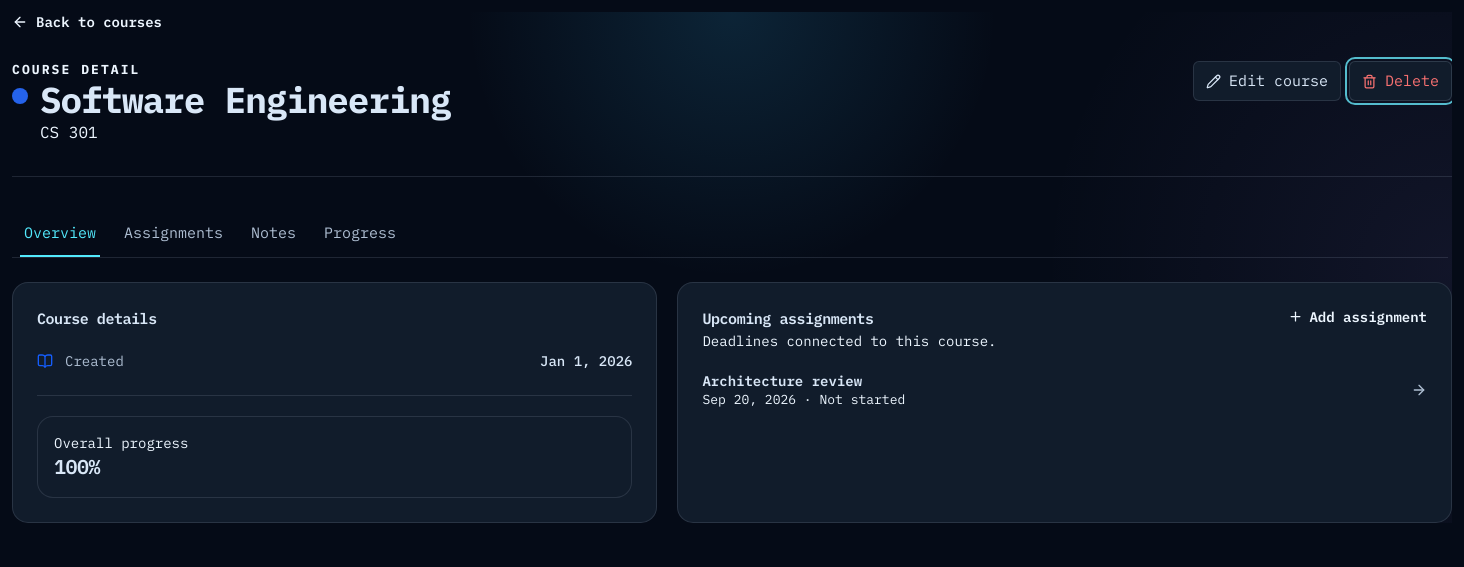
Test: CourseDetail tabs › switches between real course assignments, notes, and progress
The image size is (1464, 567).
Click the tab "Assignments". click: (174, 233)
box: [112,209,235,257]
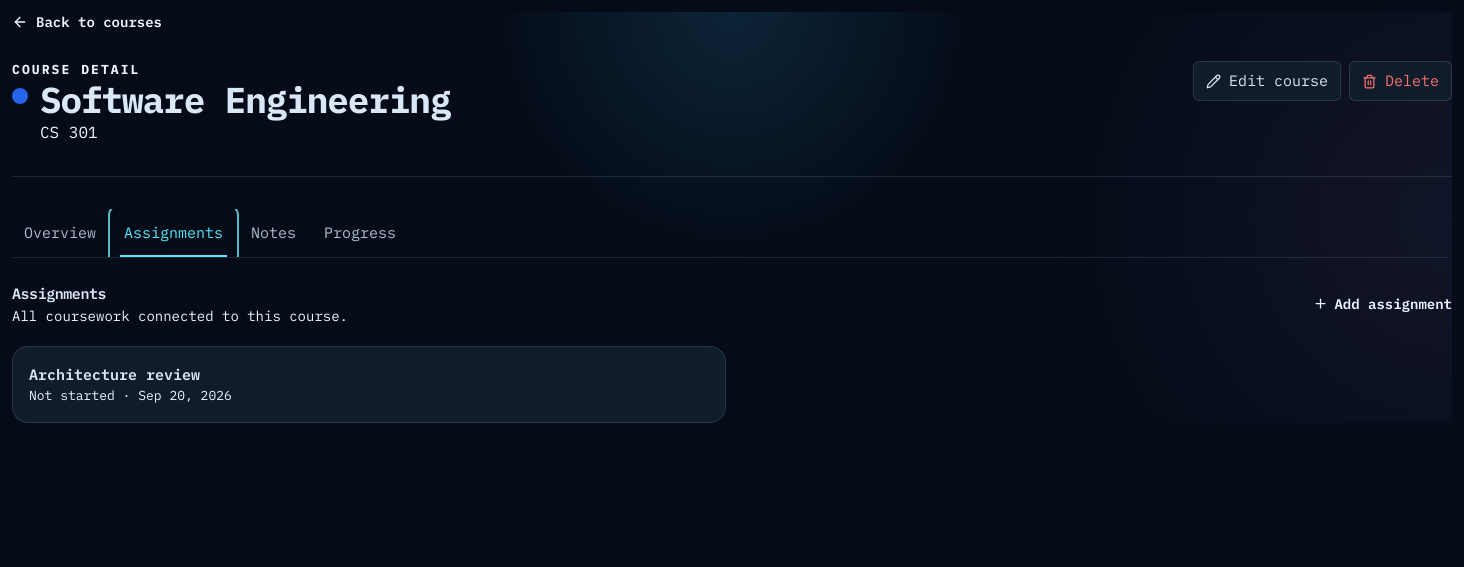
Expected: the panel shows "Architecture review", [12,346,726,423]
Click the tab "Notes". click: (274, 233)
box: [239,209,308,257]
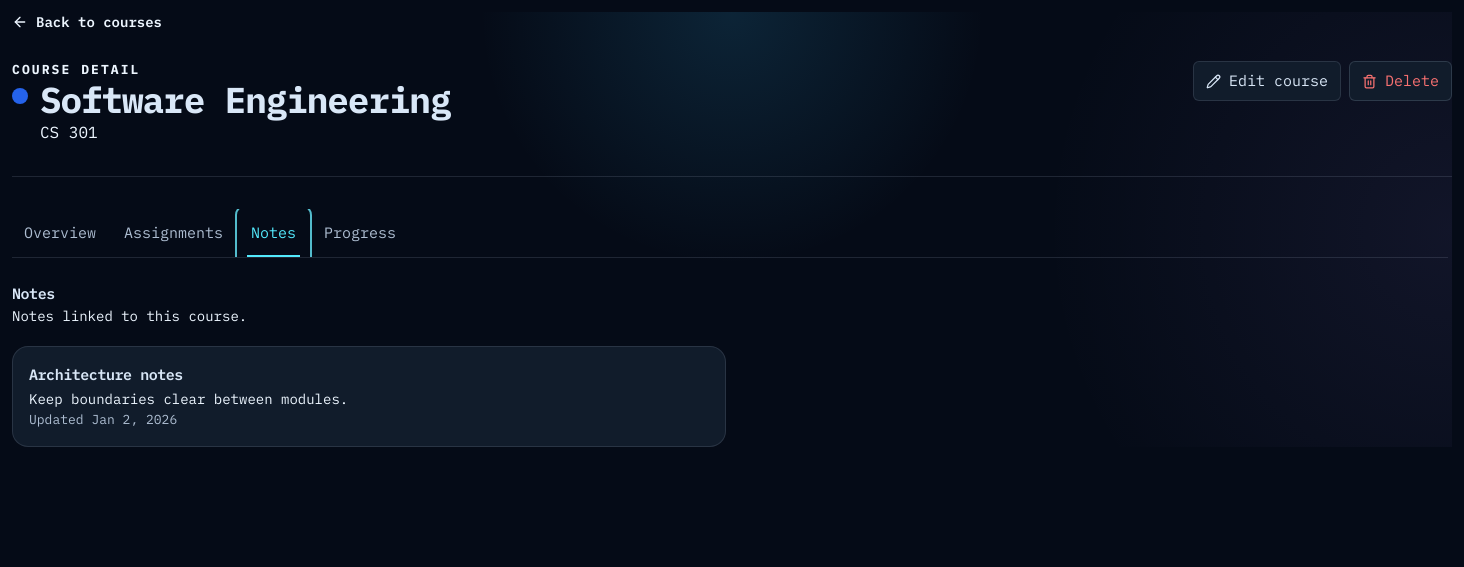
Expected: the panel shows "Architecture notes", [29,365,183,384]
Expected: the panel shows "Keep boundaries clear", [29,390,348,408]
Click the tab "Progress". click: (360, 233)
box: [312,209,408,257]
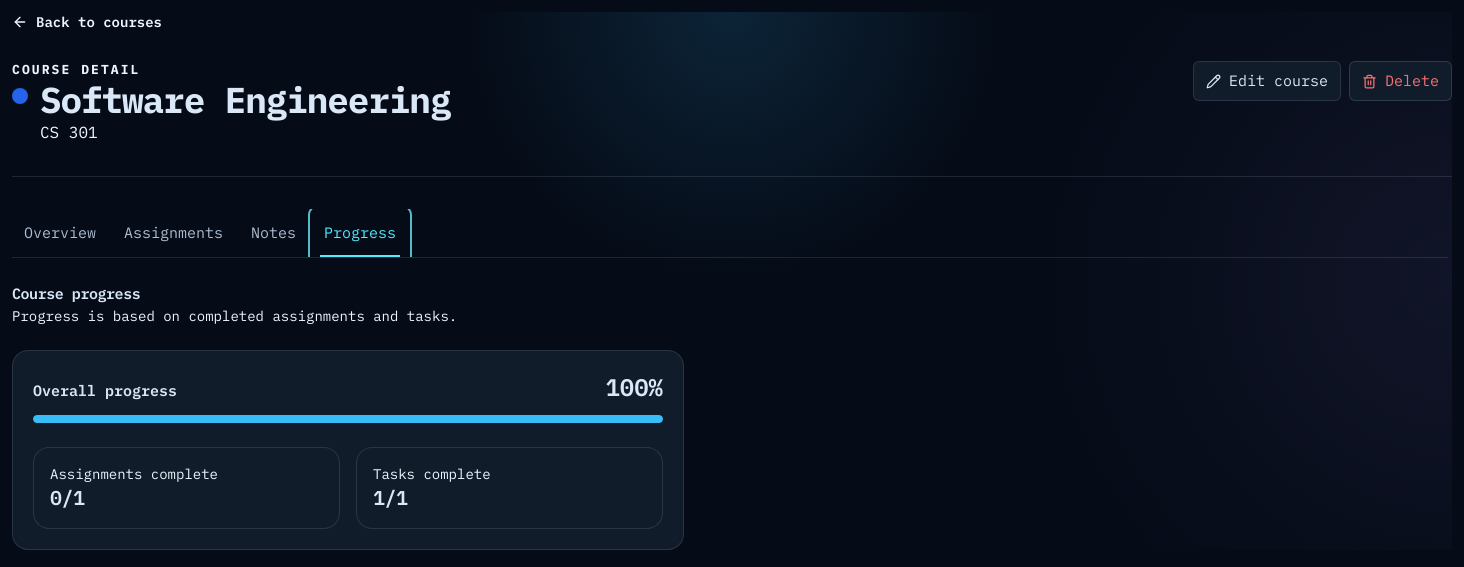
Expected: the panel shows "100%", [12,284,684,550]
Expected: the panel shows "Tasks complete", [373,465,491,483]
